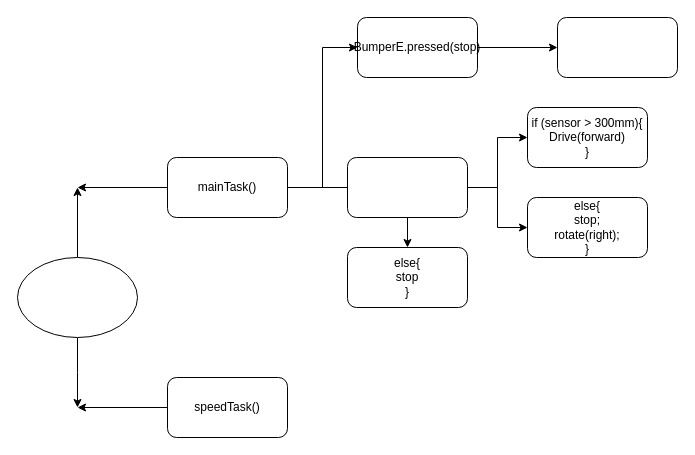
Some shapes in this 695 by 455 pixel diagram are drawn without their labels. The centre of each missing label's shape, as x and y in pixels:
If (lights = on): point 407,187
Start: point 77,297
task.stopAll(): point 617,47
